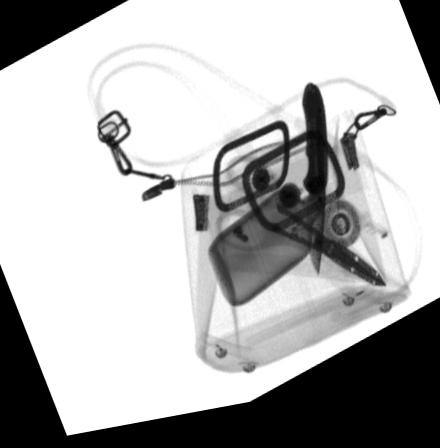Knife: (299, 96, 328, 286)
Scissors: (214, 161, 385, 301)
